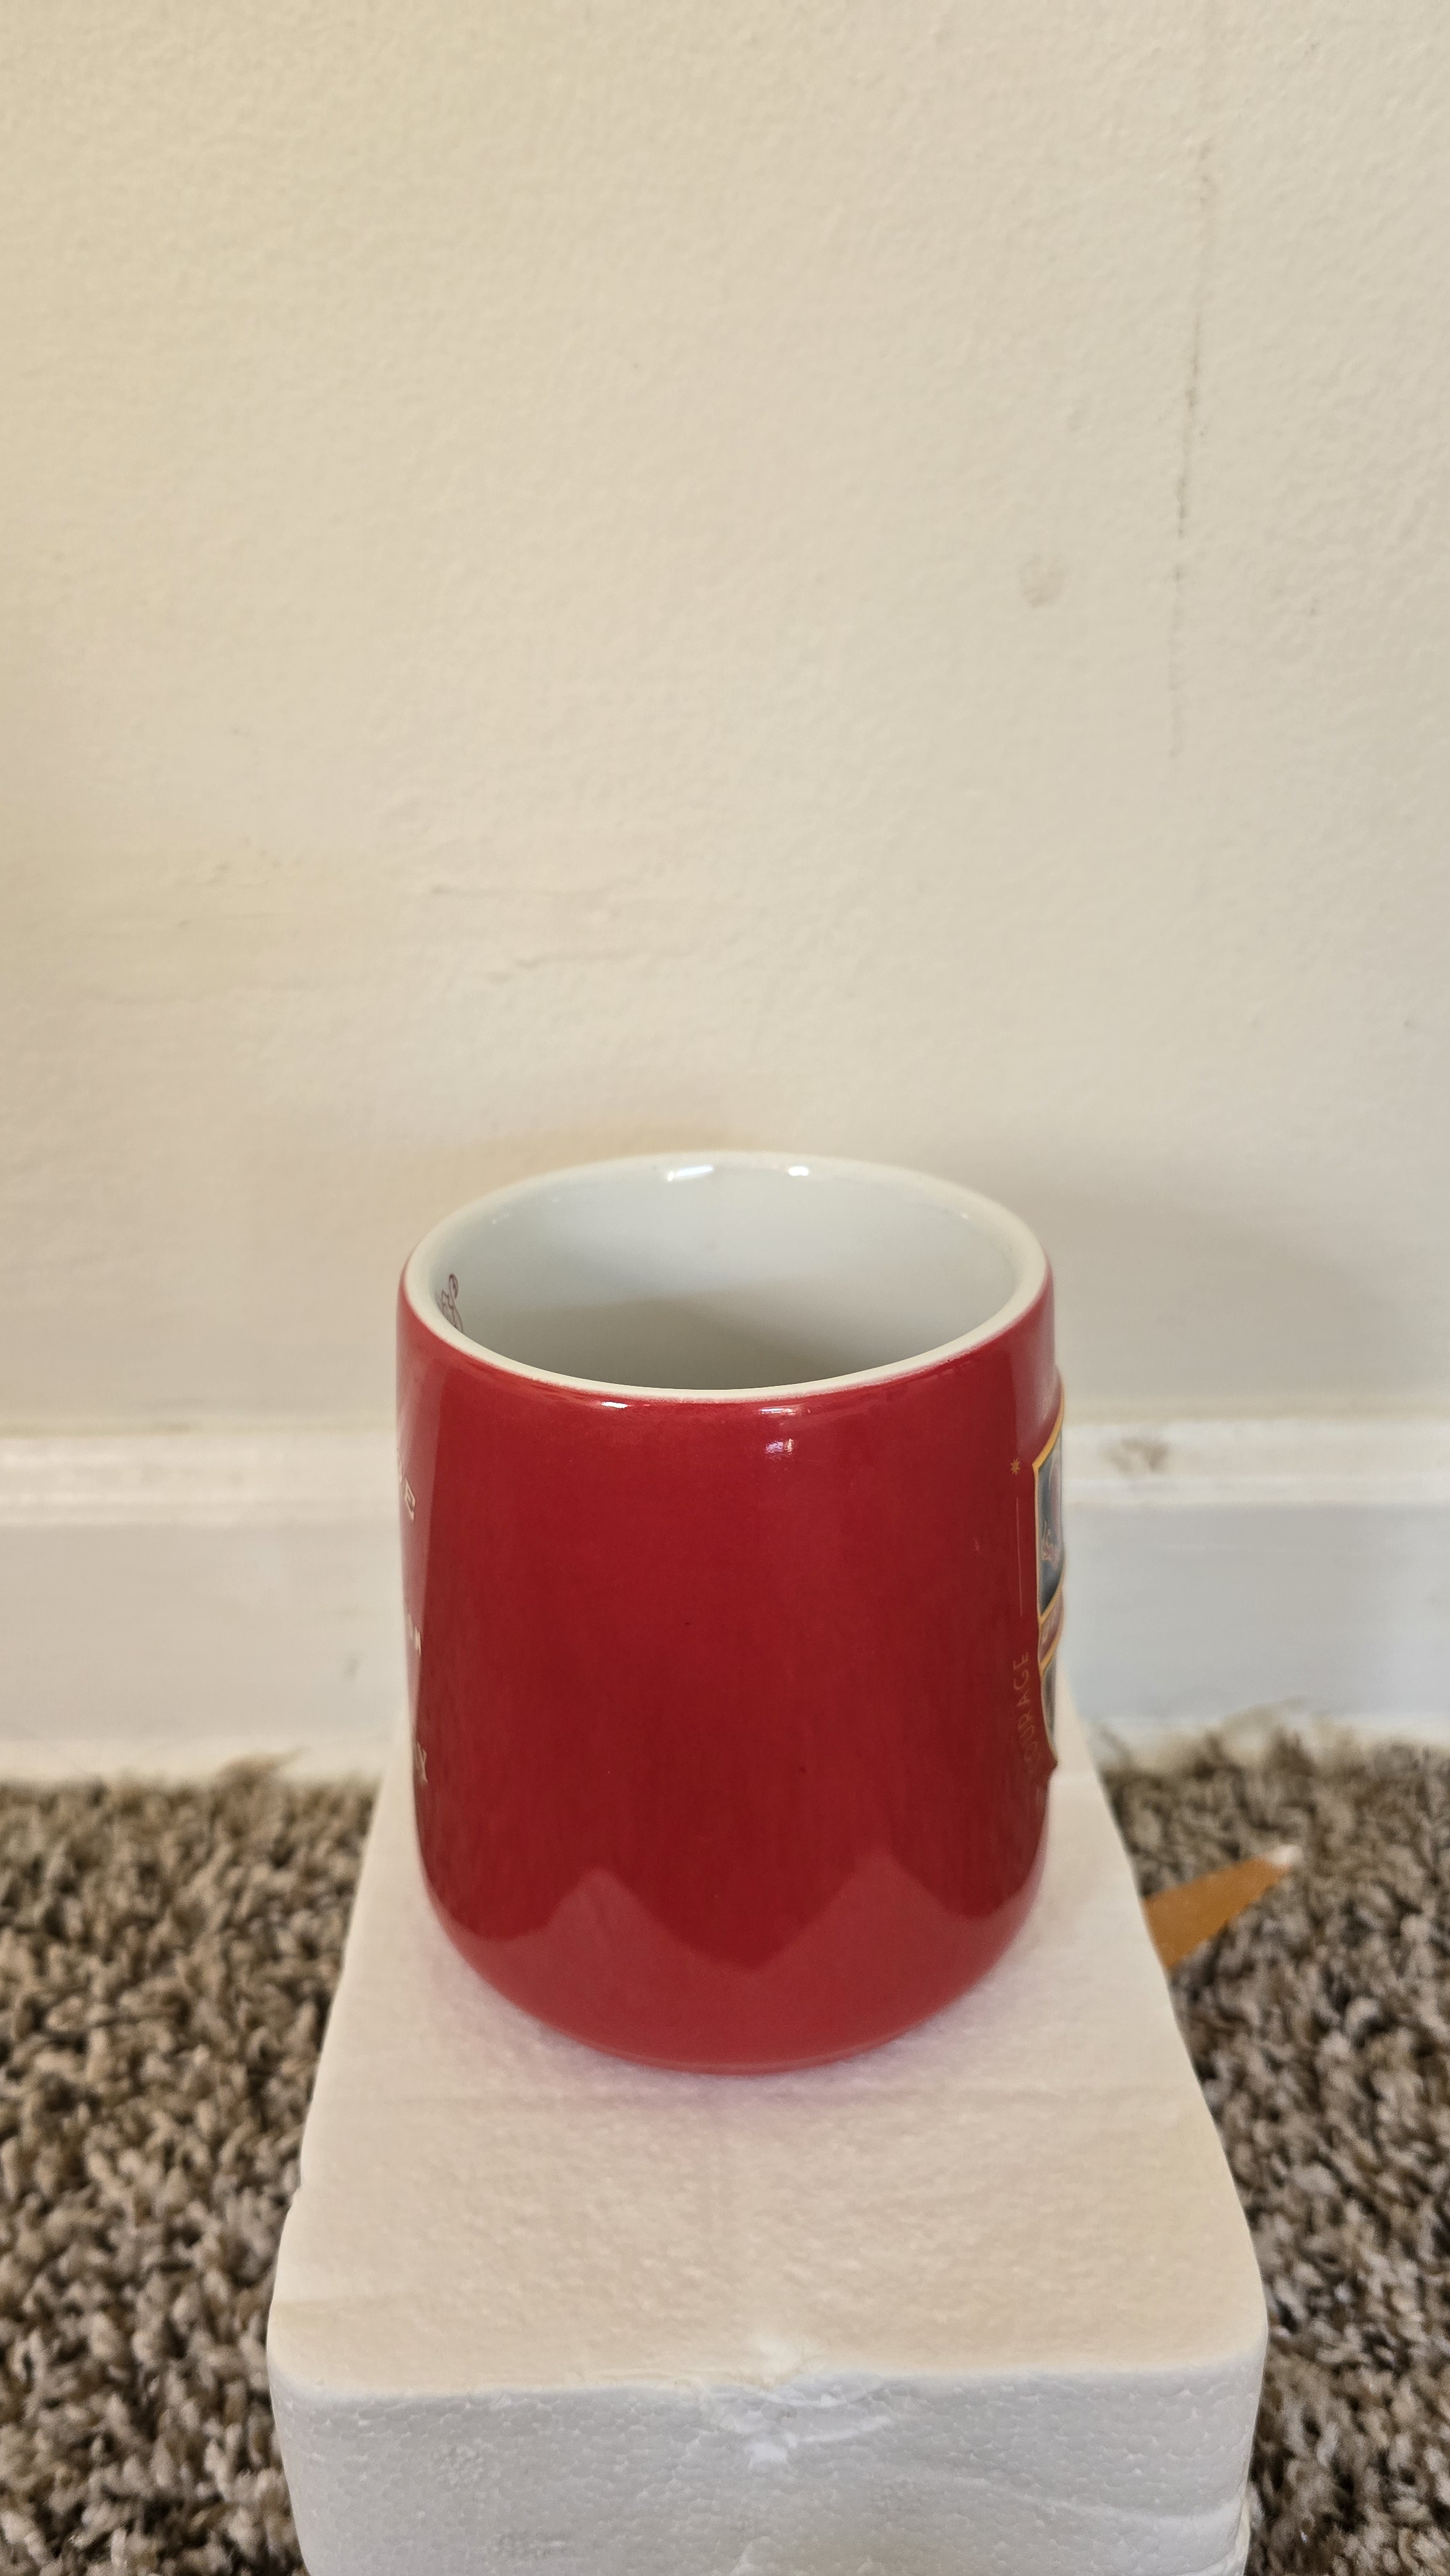mug: (357, 1095, 1273, 2104)
